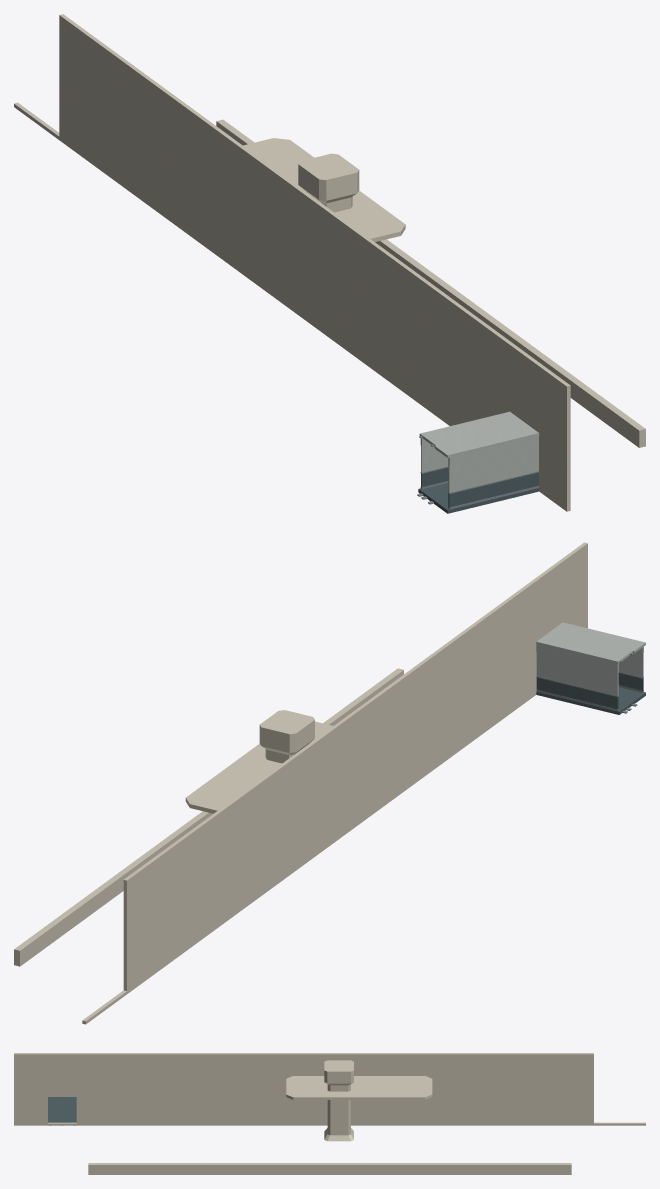
File: PORT_FORE404_RECEIVER_r002.glb
3 views of the same model, one above another, from view 1: azimuth 30°, elevation 25°; view 2: azimuth 150°, elevation 25°; view 3: azimuth 270°, elevation 25° (orthographic). The views are drawn at different scales.
Parts seen in each view (by area): view 1: GPM_CELL_-3_-22_6_ASTRAEA_ivory_enamel_concave_static_surfac, ORX_BATCH_001, ORX_BATCH_000; view 2: GPM_CELL_-3_-22_6_ASTRAEA_ivory_enamel_concave_static_surfac, ORX_BATCH_001, ORX_BATCH_000; view 3: GPM_CELL_-3_-22_6_ASTRAEA_ivory_enamel_concave_static_surfac, ORX_BATCH_000.
Part boxes in pixels (bbox=[...]): GPM_CELL_-3_-22_6_ASTRAEA_ivory_enamel_concave_static_surfac: bbox=[14, 14, 645, 511]; ORX_BATCH_001: bbox=[419, 411, 539, 492]; ORX_BATCH_000: bbox=[418, 467, 539, 513]; GPM_CELL_-3_-22_6_ASTRAEA_ivory_enamel_concave_static_surfac: bbox=[14, 542, 587, 1024]; ORX_BATCH_001: bbox=[536, 622, 645, 696]; ORX_BATCH_000: bbox=[536, 673, 645, 714]; GPM_CELL_-3_-22_6_ASTRAEA_ivory_enamel_concave_static_surfac: bbox=[14, 1053, 645, 1174]; ORX_BATCH_000: bbox=[48, 1097, 76, 1122].
Size of the model in its own units: 17.04 by 9.68 by 68.
Materials: 5 (4 with a texture image).
